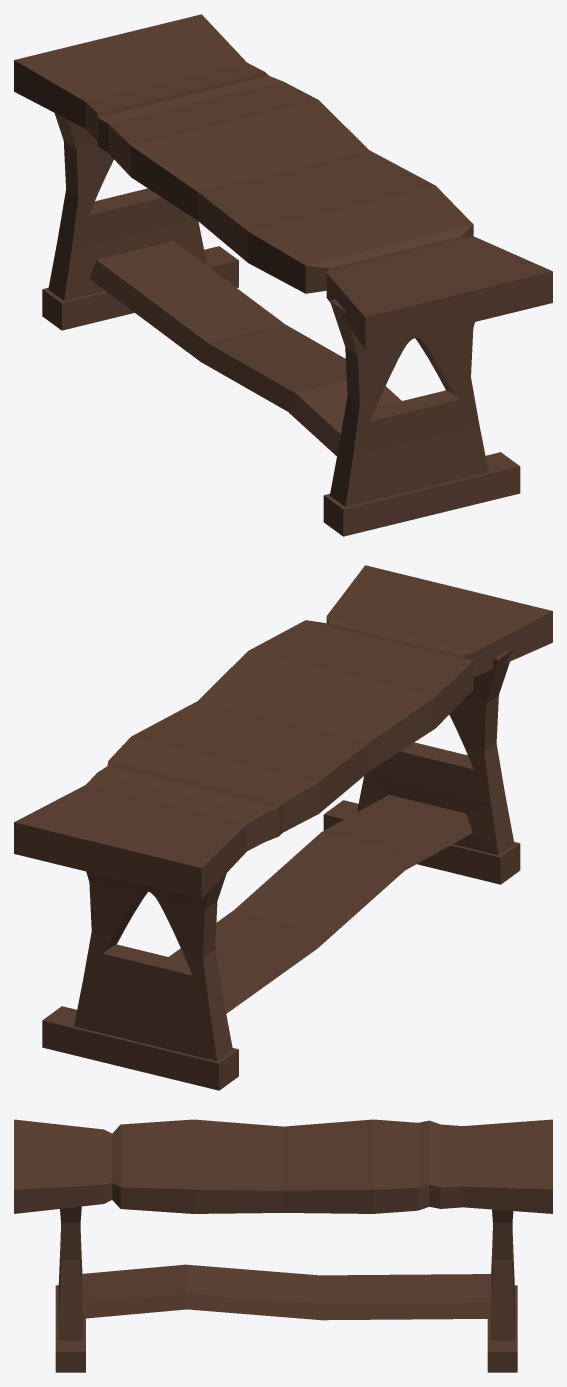
Rendered from Bench (1).fbx.
The picture shows the model from 3 angles, top to bottom: view 1: azimuth 30°, elevation 25°; view 2: azimuth 150°, elevation 25°; view 3: azimuth 270°, elevation 25°; orthographic projection. The views are drawn at different scales.
Parts seen in each view (by area): view 1: Cube; view 2: Cube; view 3: Cube.
Boxes of the visible parts, bbox=[...] form: Cube: bbox=[14, 14, 552, 536]; Cube: bbox=[14, 565, 552, 1090]; Cube: bbox=[14, 1119, 552, 1372].
Bounding box in the file's own units: 116 × 142 × 374.
